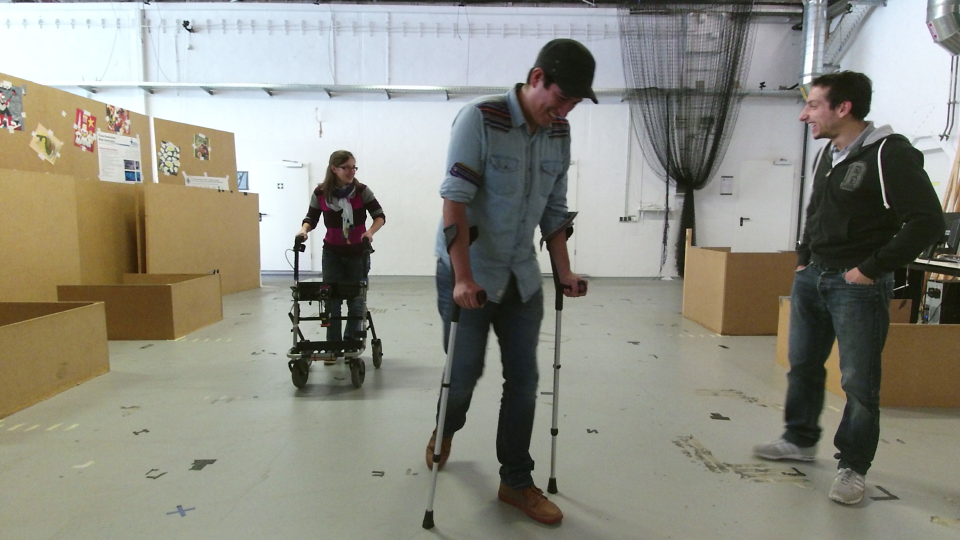crutches: (414, 42, 587, 513)
